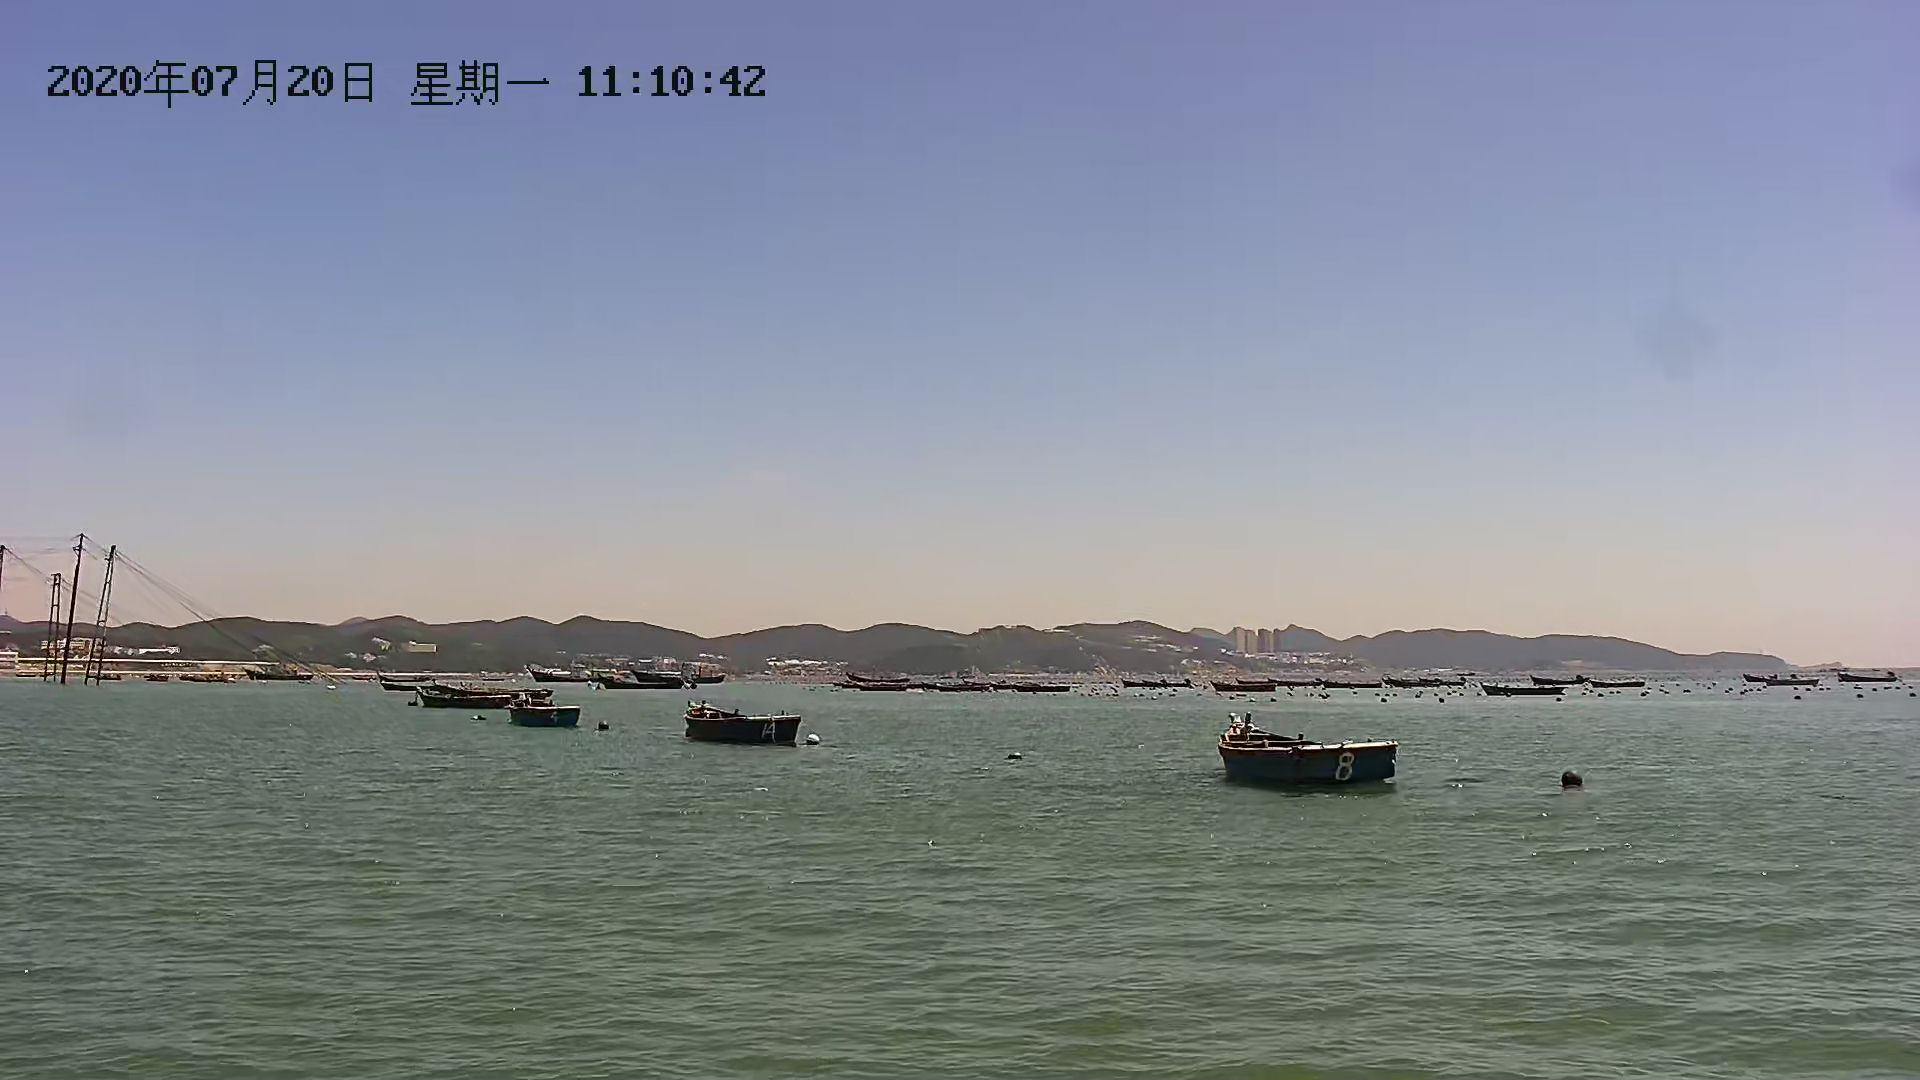ball: (1553, 767, 1596, 796), (807, 735, 829, 749), (599, 720, 617, 735)
boat: (1208, 708, 1400, 800), (684, 698, 804, 753), (411, 682, 535, 712), (508, 695, 588, 731)
